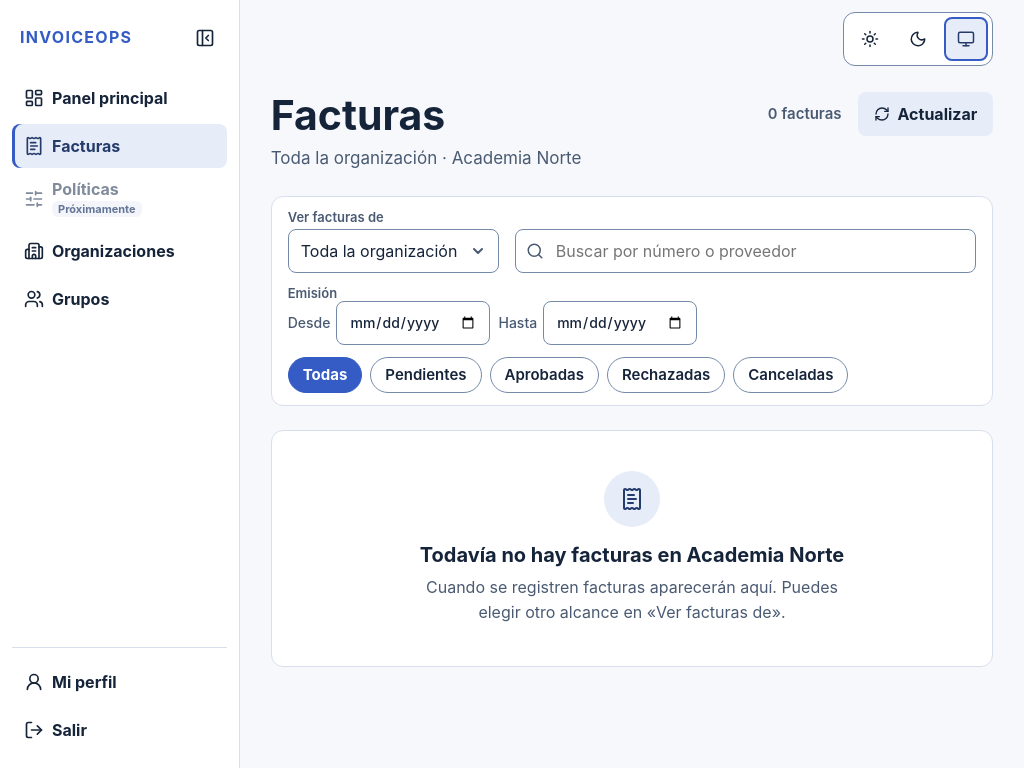
Test: APP12 S3 invoice presentation HTTP boundary › announces initial loading and a genuine empty result, then searches without inventing rows
Check: the heading "Facturas" is shown, box [271,90,445,140]
Check: the heading "Todavía no hay facturas en Academia Norte" is shown, box [420,543,844,567]
Type "  Proveedor  " into the search field labelled "Buscar por número o proveedor" at (746, 251), box [515,229,976,273]
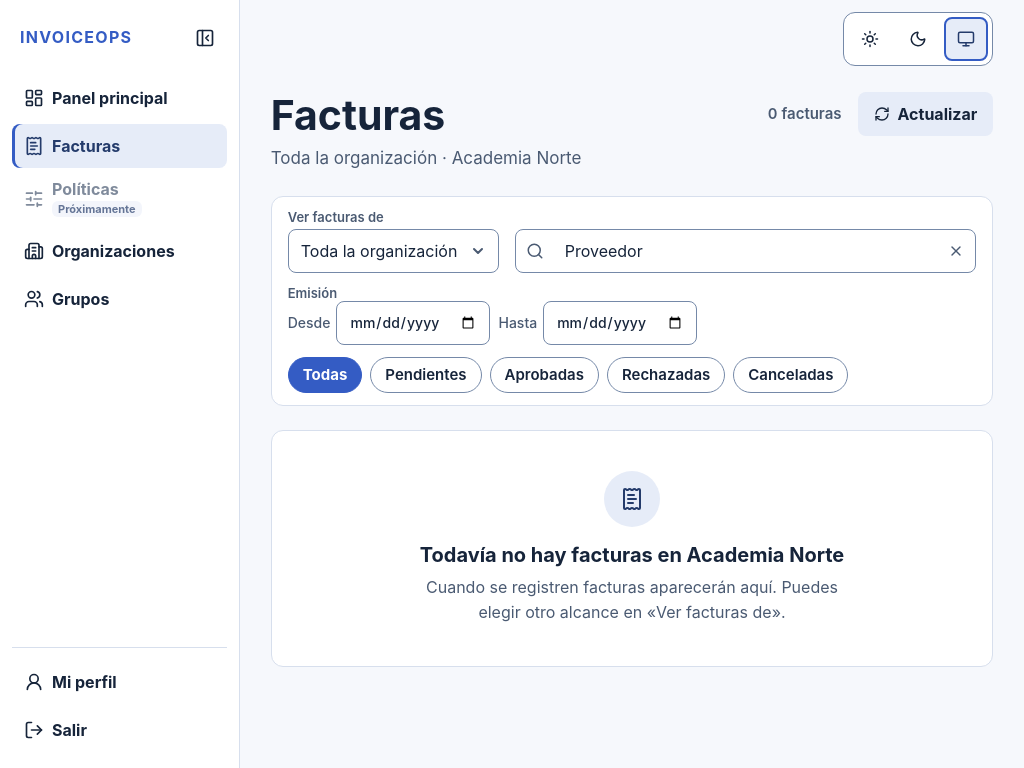
Click the button named "Buscar" at (535, 251), box [515,229,555,273]
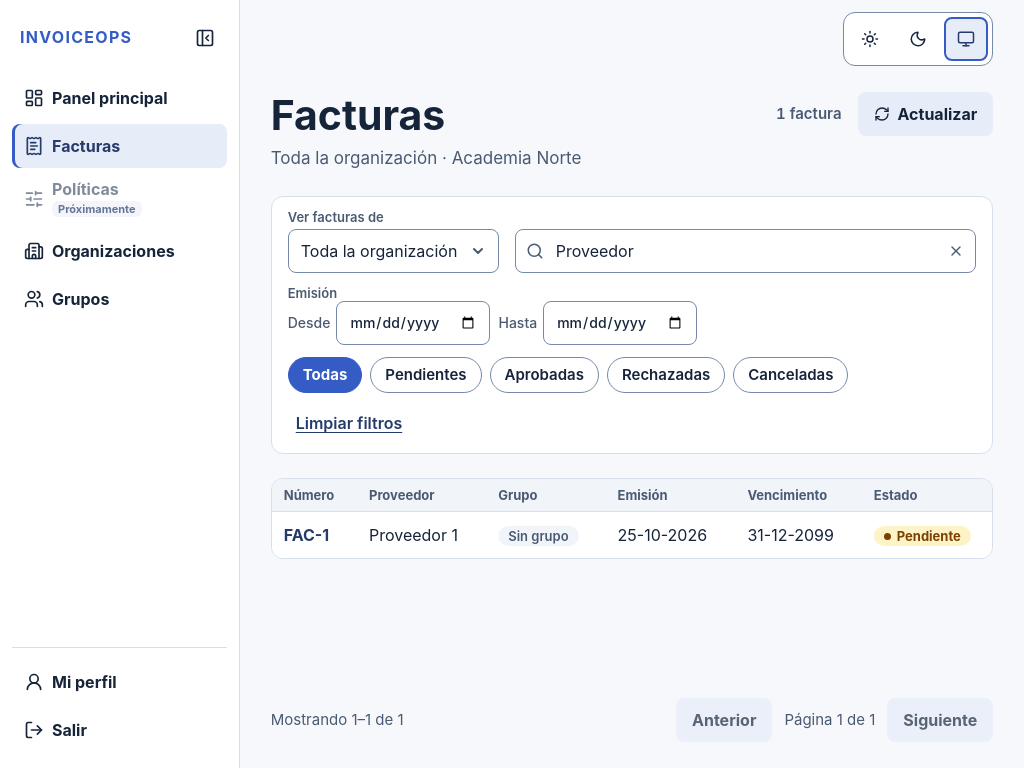
Check: the text "Proveedor 1" is shown, box [357,511,486,558]
Check: the column heading "Proveedor" is shown, box [357,479,486,511]
